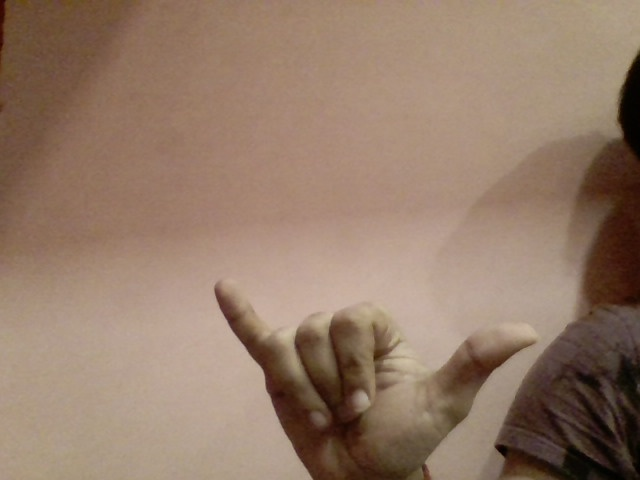y: (196, 265, 543, 480)
